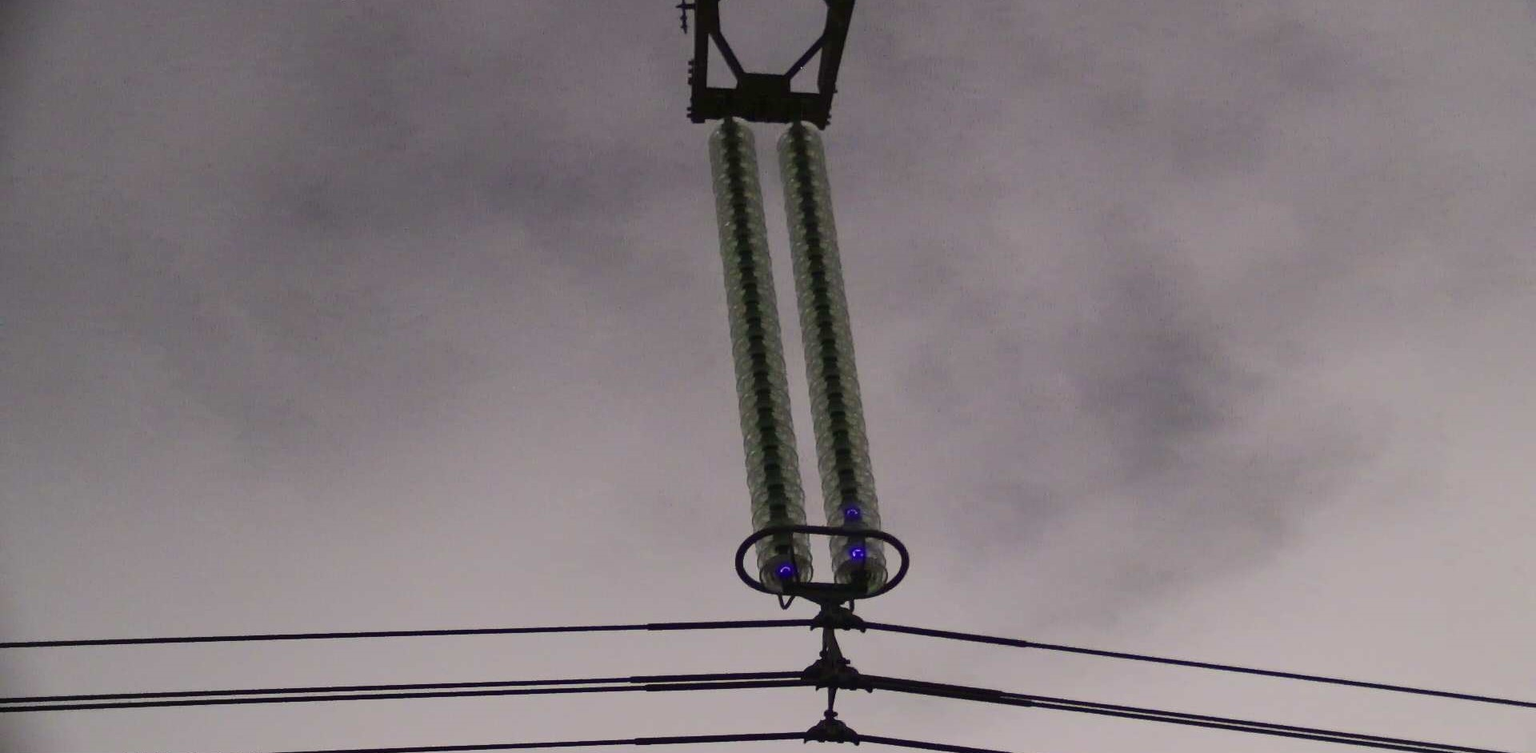绝缘子污闪: (848, 546, 866, 561), (777, 563, 793, 575), (846, 506, 859, 516)
